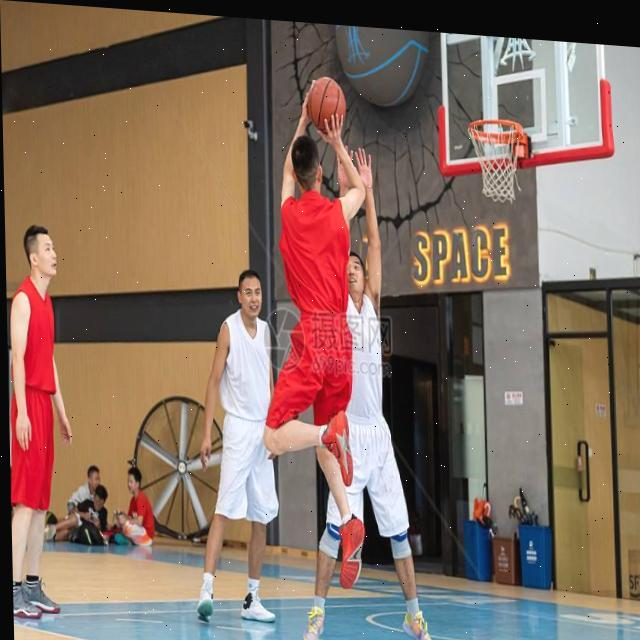basketball: (307, 76, 347, 133)
hoop: (470, 116, 524, 203)
